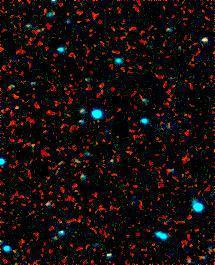star: (1, 93, 31, 123)
